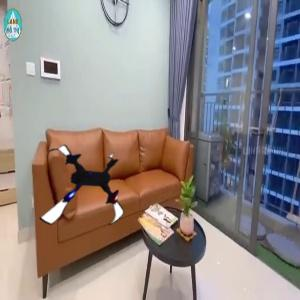drone: (31, 138, 135, 242)
